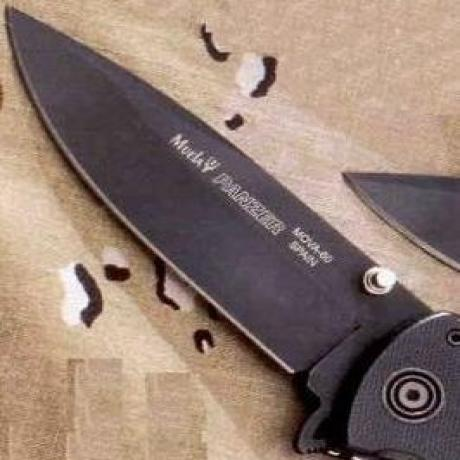weapon: (0, 6, 418, 447)
